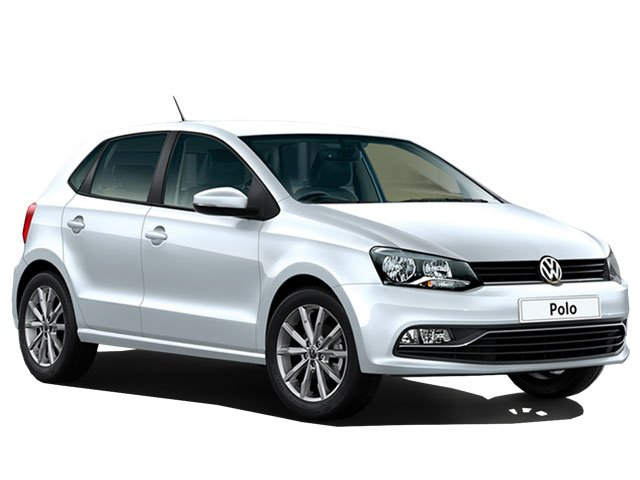car: (16, 115, 627, 414)
